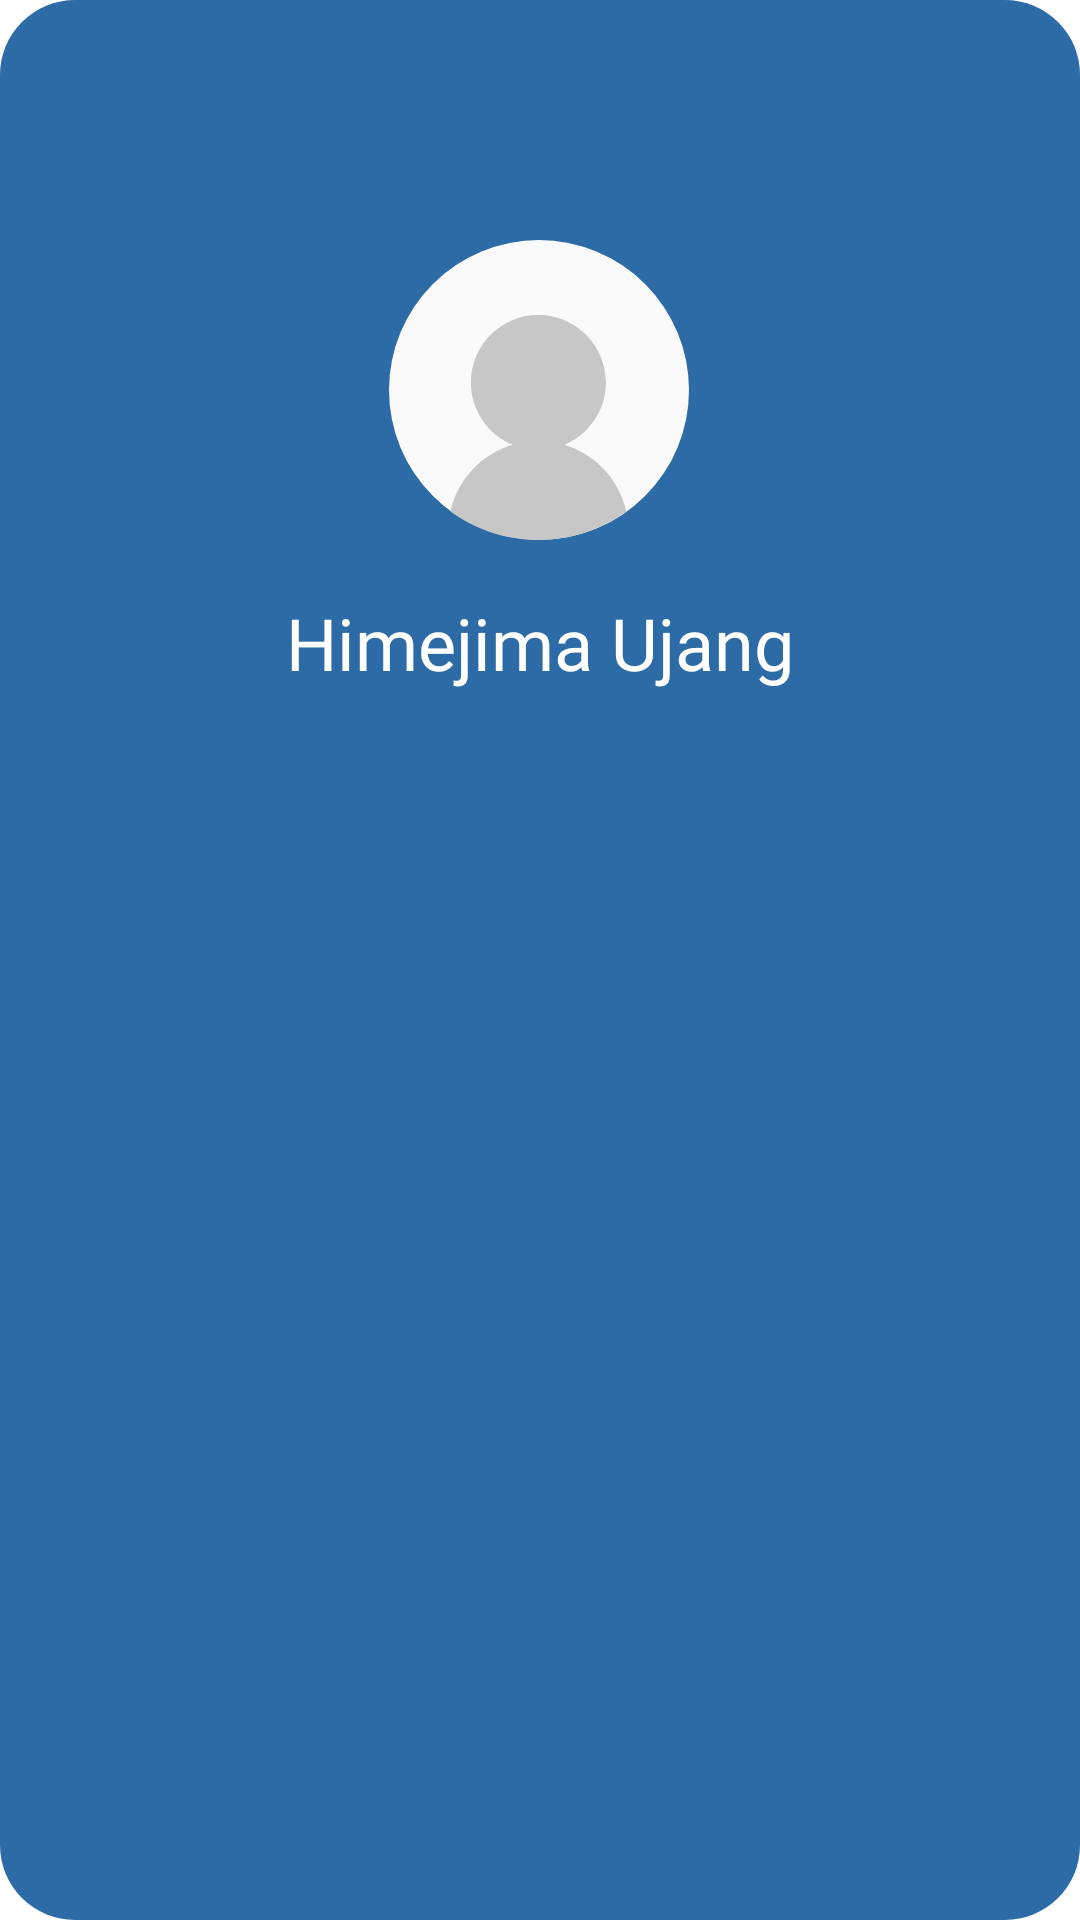

Screen size 1080×1920. Icon name, then its box in pixels as (x1, y1, x2, y2):
profile: (389, 240, 689, 540)
